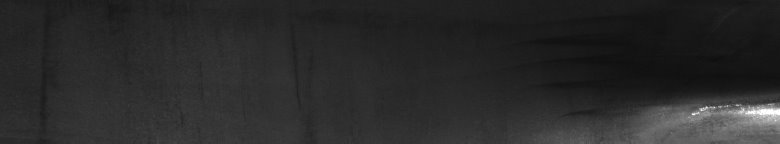ke: (554, 84, 776, 136)
